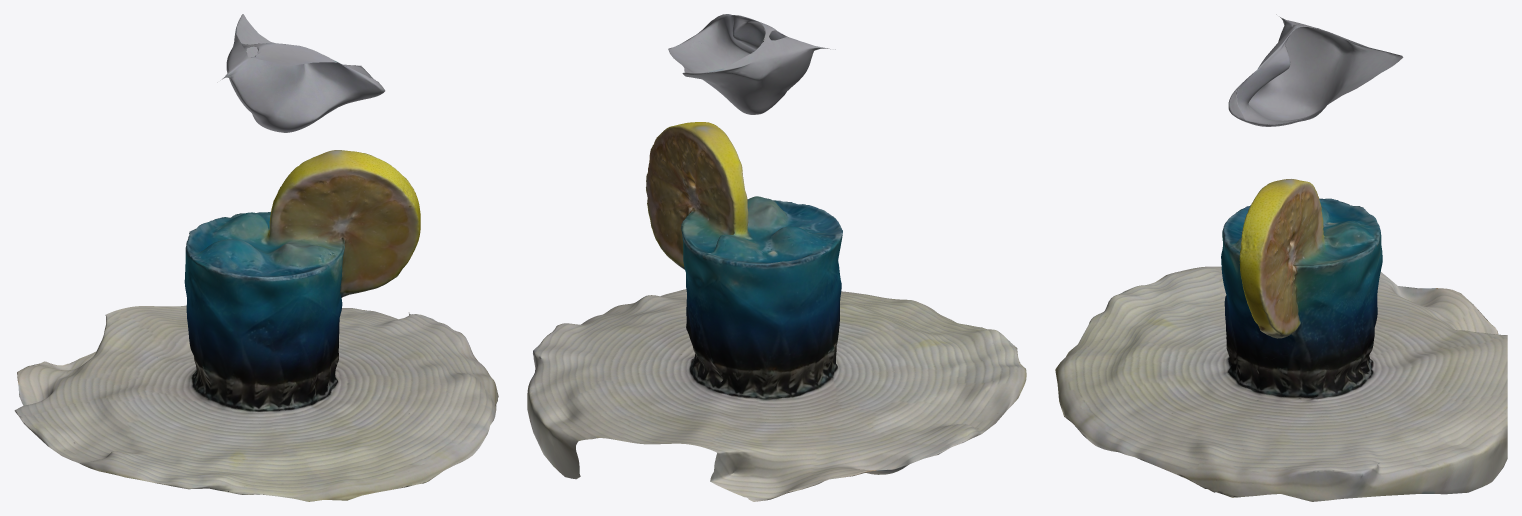
File: negroni.glb
3 renders of one model, left to right at view 1: azimuth 30°, elevation 25°; view 2: azimuth 150°, elevation 25°; view 3: azimuth 270°, elevation 25°, orthographic.
Parts seen in each view (by area): view 1: 3DModel; view 2: 3DModel; view 3: 3DModel.
Boxes of the visible parts, <box> form: 3DModel: <box>14,14,498,501</box>; 3DModel: <box>527,14,1026,501</box>; 3DModel: <box>1055,14,1507,501</box>.
Size of the model in its own units: 1.05 by 0.9512 by 0.9618.
Materials: 1 (1 with a texture image).
